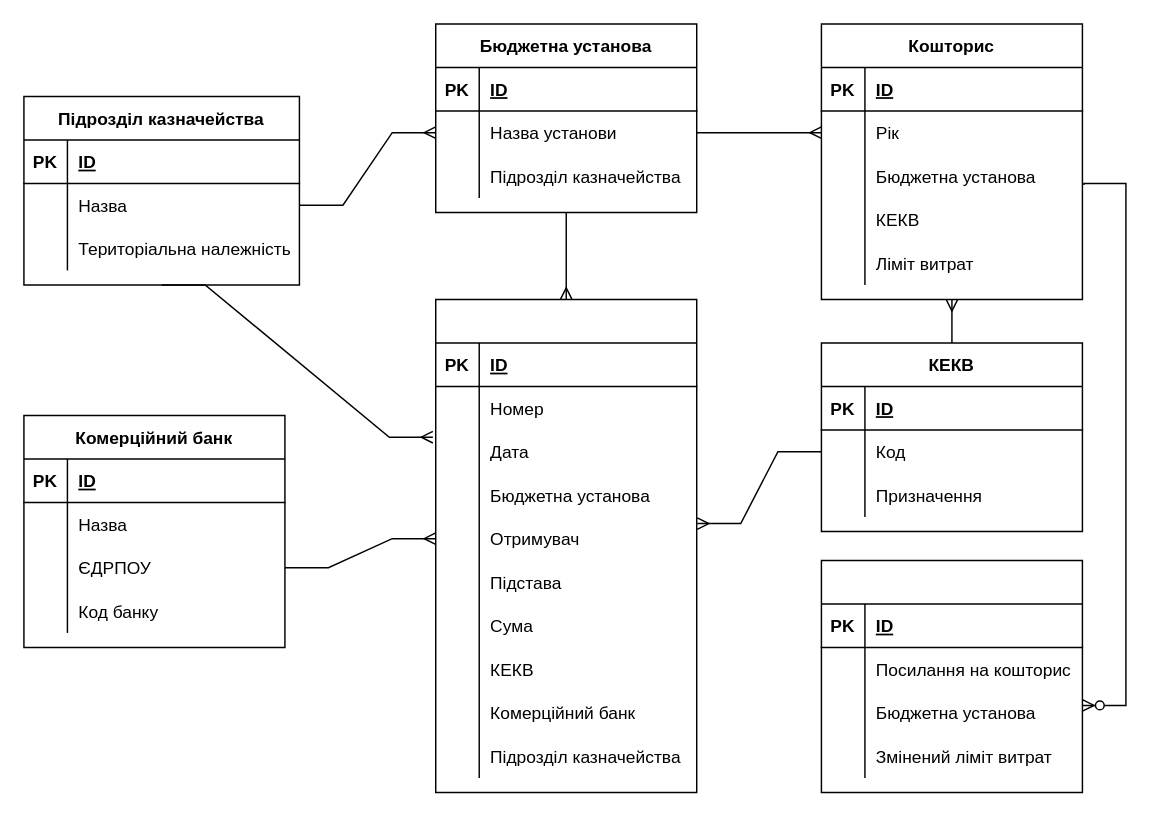
This 1150x816 diagram has some shape labels left out. The shapes that lost their labels are listed below. From the top down, each one's box as (x1, y1, x2, y2) in pixels, then its label:
(434, 298, 697, 792): Платіжне доручення
(820, 559, 1082, 792): Зміна кошторису
